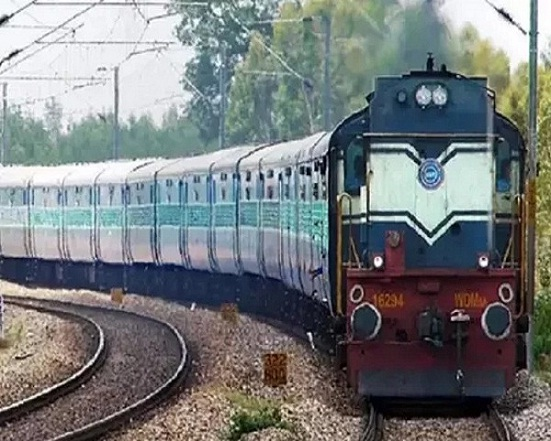train: (4, 60, 532, 423)
